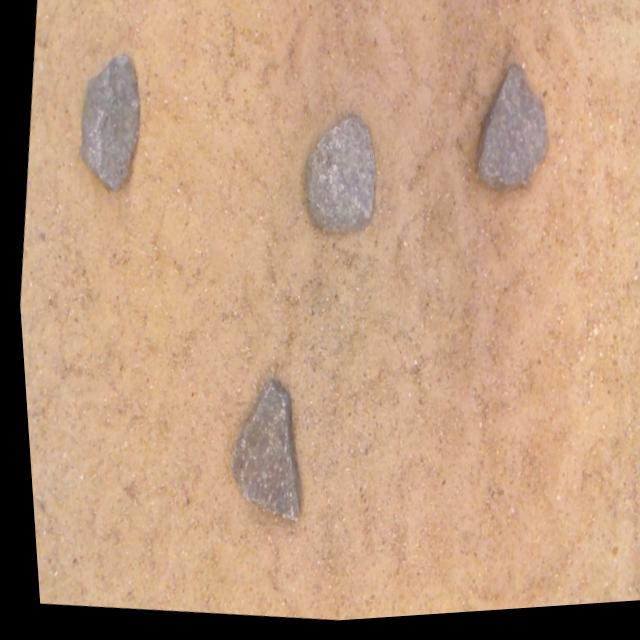rock: (225, 384, 292, 524), (474, 73, 546, 195), (302, 122, 373, 238), (77, 57, 138, 191)
